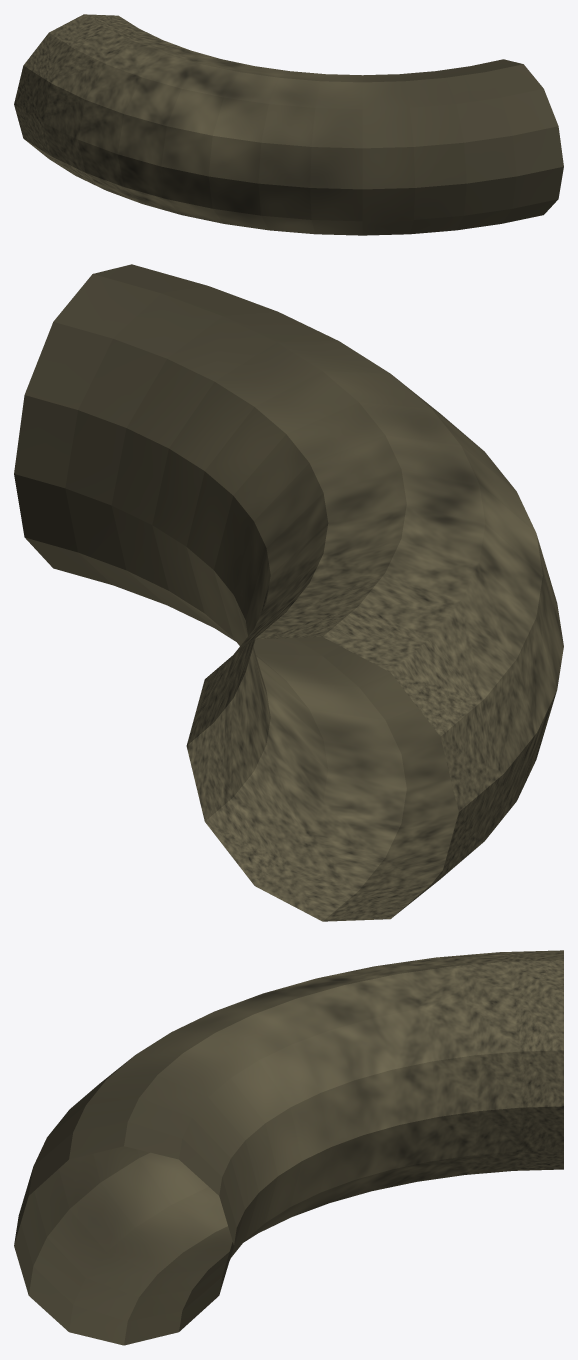
Rendered from snakecurve.obj.
The picture shows the model from 3 angles, top to bottom: view 1: azimuth 30°, elevation 25°; view 2: azimuth 150°, elevation 25°; view 3: azimuth 270°, elevation 25°; orthographic projection. The views are drawn at different scales.
Visible parts, largest first — view 1: Torus; view 2: Torus; view 3: Torus.
Boxes of the visible parts, box(x1,y1,x2,y2) form: Torus: box(14, 14, 563, 235); Torus: box(14, 264, 563, 921); Torus: box(14, 950, 563, 1345).
Size of the model in its own units: 1.25 by 0.5 by 1.25.
1 material, 1 textured.
